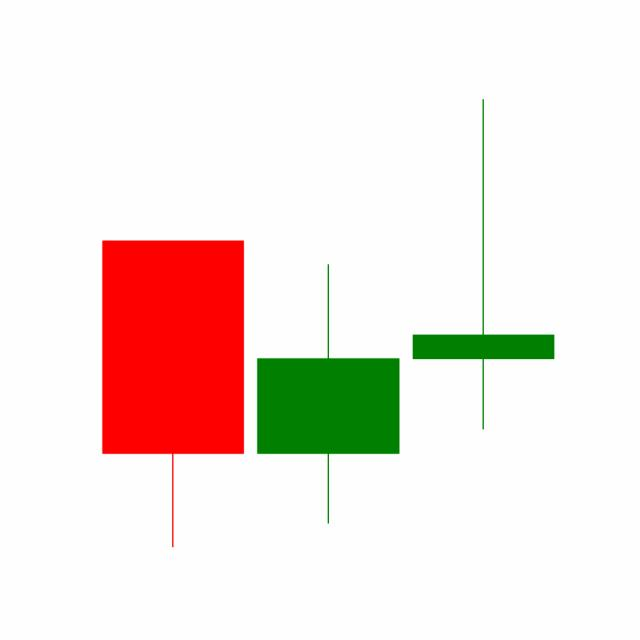Gravestone Doji: (405, 96, 561, 433)
